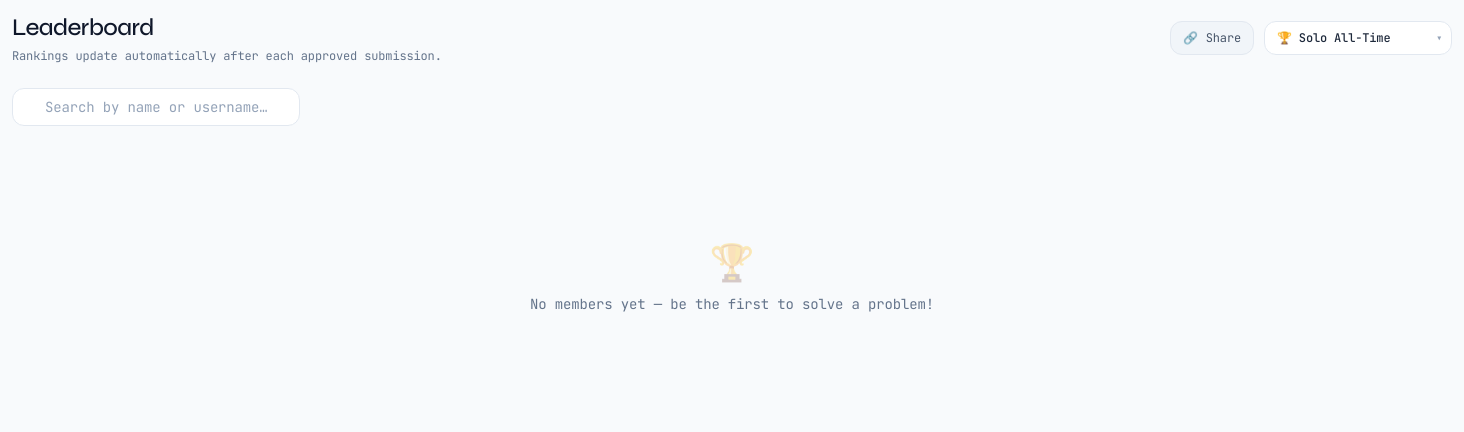
Feature 9: Leaderboard Clans & Mentors Tabs › renders mentors tab with encouraging empty state when database has zero discussions
This screenshot has width=1464, height=432.
Switch to Mentors tab via dropdown
Select "🤝 Community Mentors" in the dropdown at (1358, 38), box [1264, 21, 1452, 55]
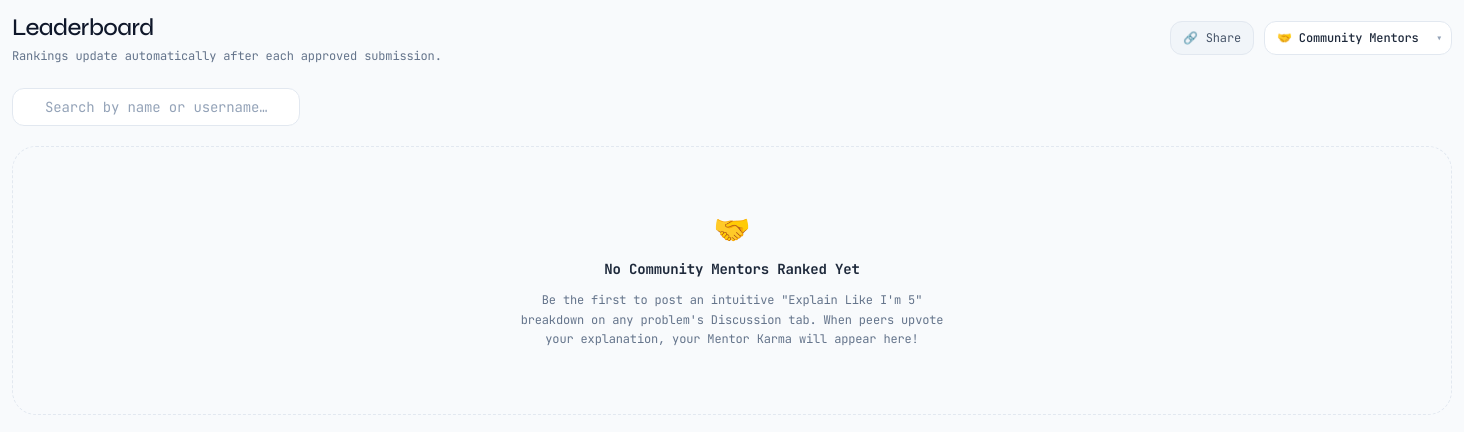
Expected: the text "No Community Mentors Ranked Yet" is shown, [604, 260, 860, 278]
